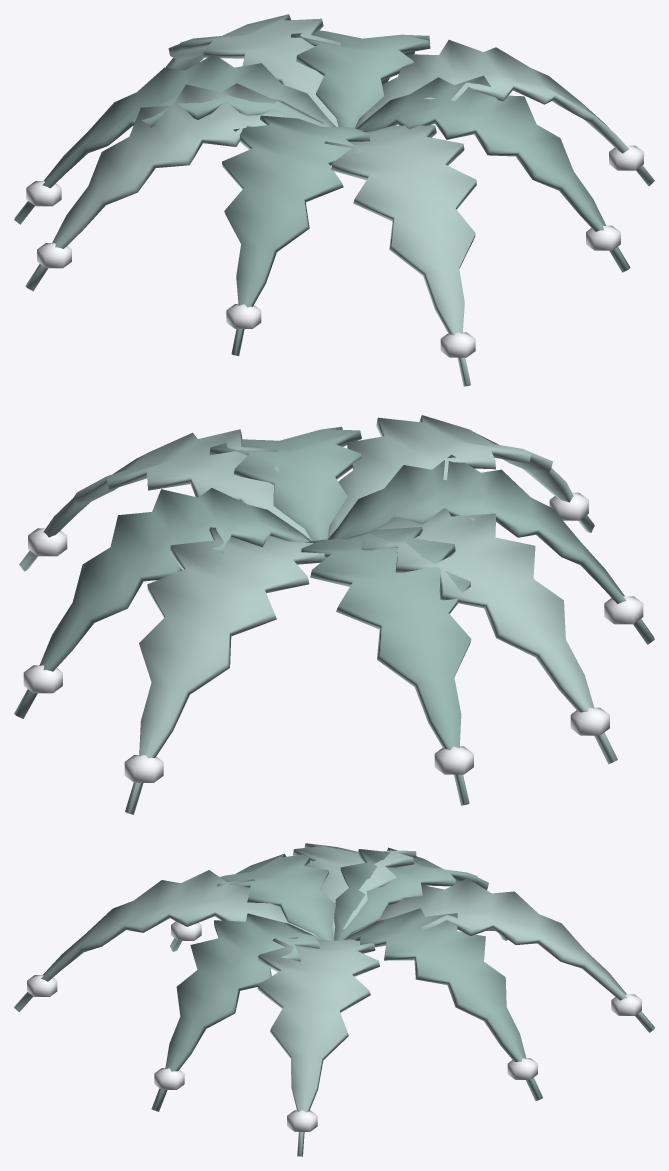
The model's file is Frost_Fern.gltf.
The picture shows the model from 3 angles, top to bottom: view 1: azimuth 30°, elevation 25°; view 2: azimuth 150°, elevation 25°; view 3: azimuth 270°, elevation 25°; orthographic projection. The views are drawn at different scales.
Visible parts, largest first — view 1: Frost_Fern; view 2: Frost_Fern; view 3: Frost_Fern.
Part boxes in pixels (x1,y1,x2,y2): Frost_Fern: (14,14,654,386); Frost_Fern: (14,415,654,814); Frost_Fern: (14,843,654,1156).
Size of the model in its own units: 0.9928 by 0.247 by 1.09.
